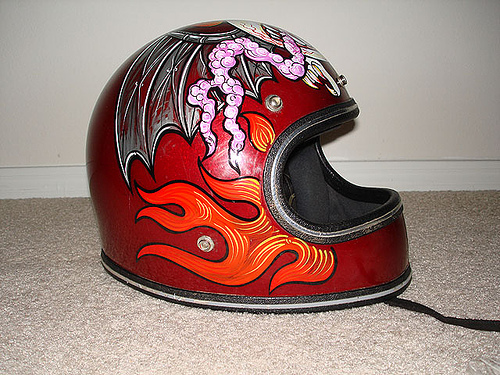helmet: (76, 27, 419, 308)
